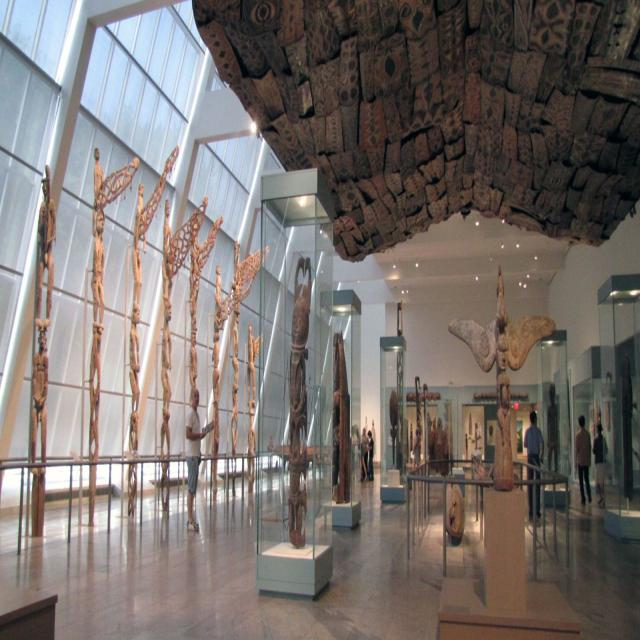body: (271, 244, 317, 556), (31, 159, 59, 533), (125, 166, 153, 508), (87, 144, 109, 513), (476, 274, 519, 426), (158, 193, 175, 513), (183, 384, 216, 534), (328, 326, 352, 505), (228, 236, 242, 492), (186, 219, 202, 386), (211, 262, 222, 501), (522, 409, 545, 523), (245, 311, 257, 495), (440, 467, 468, 543), (573, 413, 593, 506), (545, 378, 561, 489), (591, 422, 609, 509), (428, 414, 448, 468), (356, 427, 368, 483), (602, 369, 612, 430), (365, 428, 374, 482), (361, 426, 370, 479), (412, 426, 421, 472), (364, 413, 375, 449), (592, 396, 602, 430), (463, 432, 469, 462), (488, 426, 495, 444)
